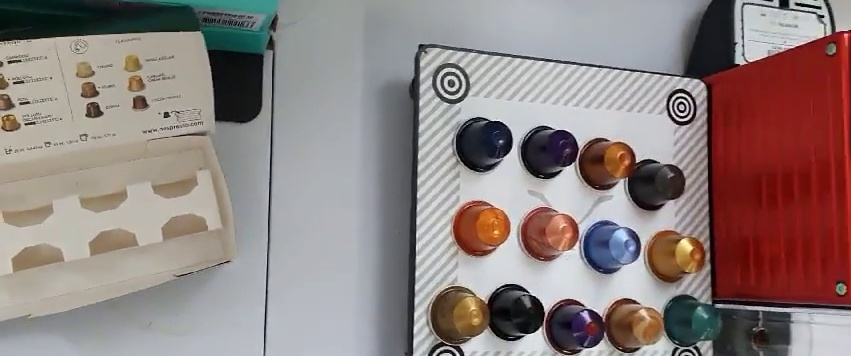capsule_1: (453, 114, 512, 175)
capsule_10: (481, 287, 545, 340)
capsule_11: (542, 299, 603, 356)
capsule_12: (601, 295, 666, 356)
capsule_13: (661, 295, 717, 347)
capsule_2: (521, 126, 579, 184)
capsule_3: (576, 135, 638, 193)
capsule_4: (629, 159, 686, 212)
capsule_5: (450, 197, 510, 259)
capsule_6: (519, 205, 577, 262)
capsule_7: (582, 216, 641, 273)
capsule_8: (646, 225, 705, 284)
capsule_9: (426, 283, 491, 348)
